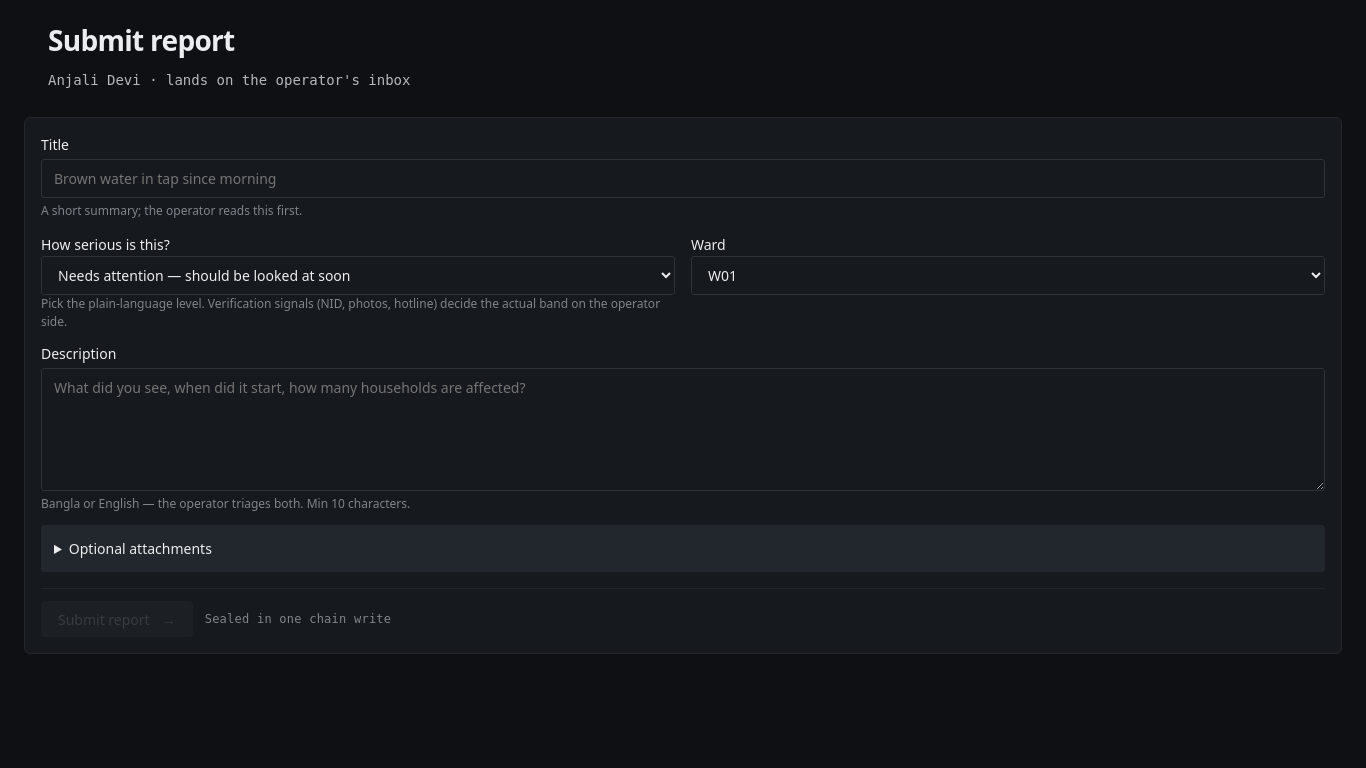
Test case: FE-F2 /submit form validation › submit_button_disabled_until_minimums_met: title<5 OR desc<10 keeps disabled
The width and height of the screenshot is (1366, 768).
Expected: the button with test id "submit-submit" is disabled, [41,601,193,637]
Only title — still disabled.
Type "Brown water in ward 4" into the field with test id "submit-title" at (683, 179), box [41,159,1325,198]
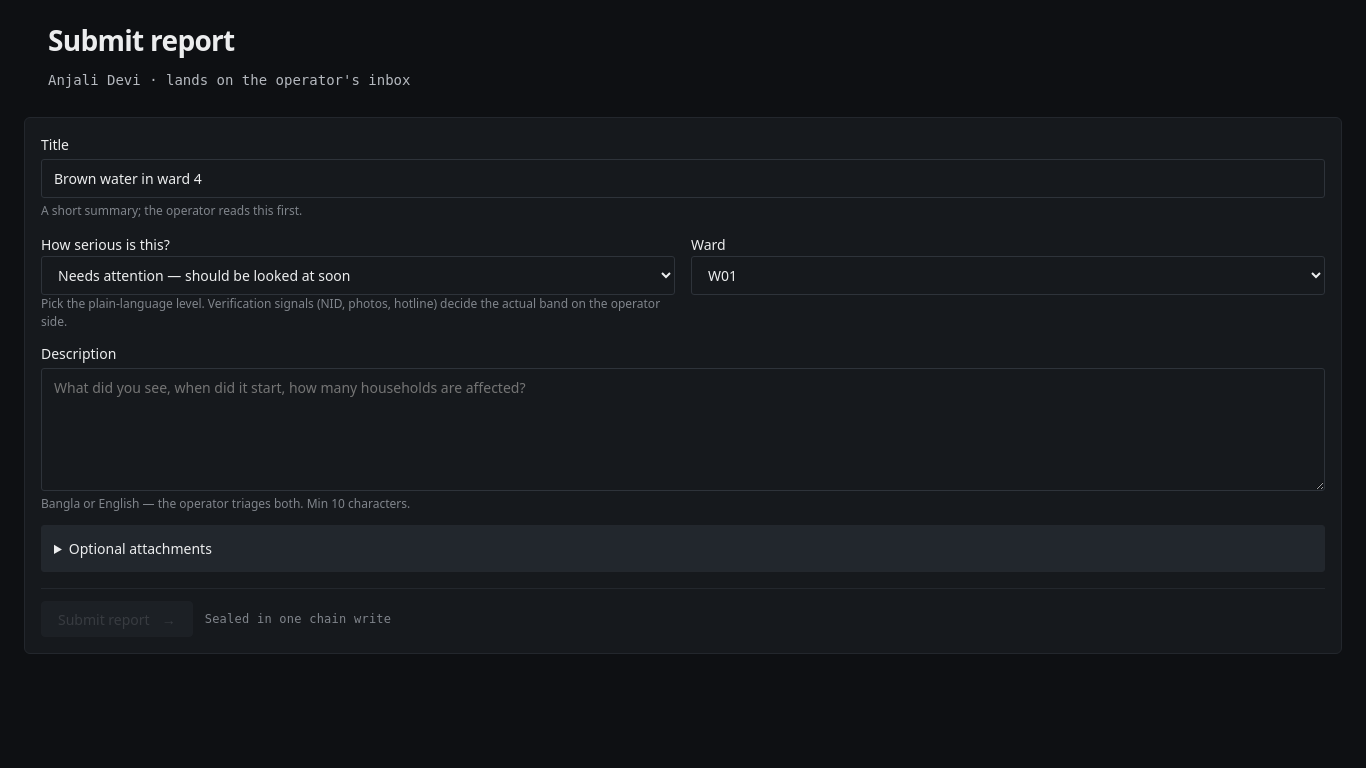
Expected: the button with test id "submit-submit" is disabled, [41,601,193,637]
Replace the text in the text box with test id "submit-description" with "Reported by 3 households since 6am" at (683, 430), box [41,368,1325,491]
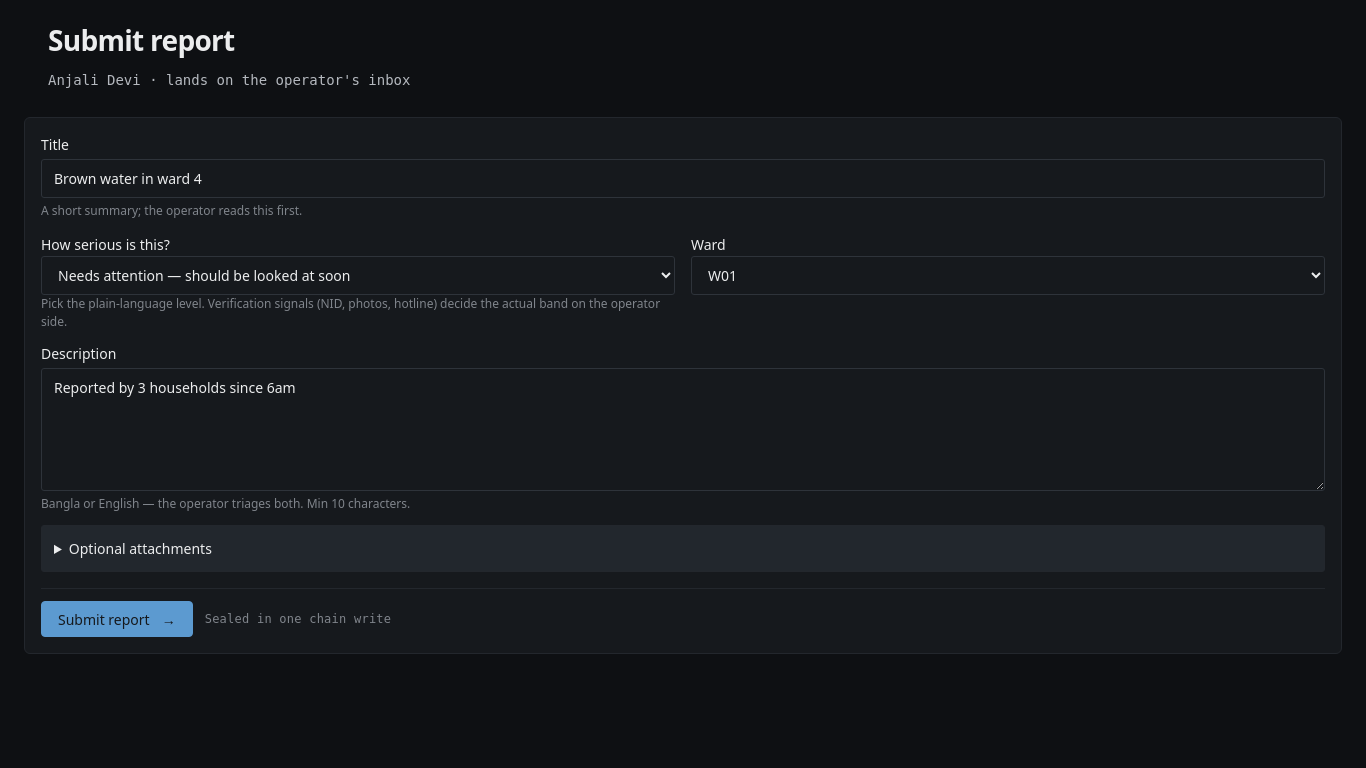
Expected: the button with test id "submit-submit" is enabled, [41,601,193,637]
Shorten description — disabled again.
Replace the text in the text box with test id "submit-description" with "short" at (683, 430), box [41,368,1325,491]
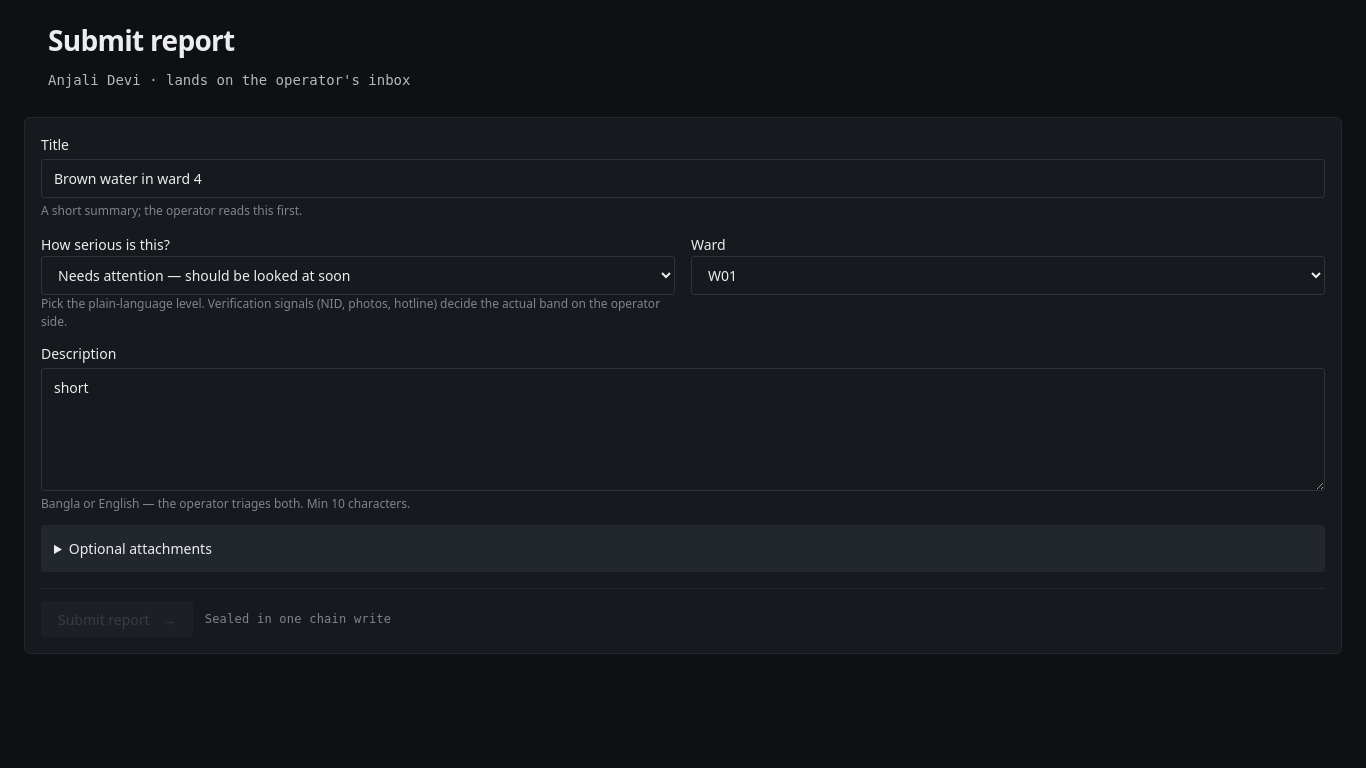
Expected: the button with test id "submit-submit" is disabled, [41,601,193,637]
